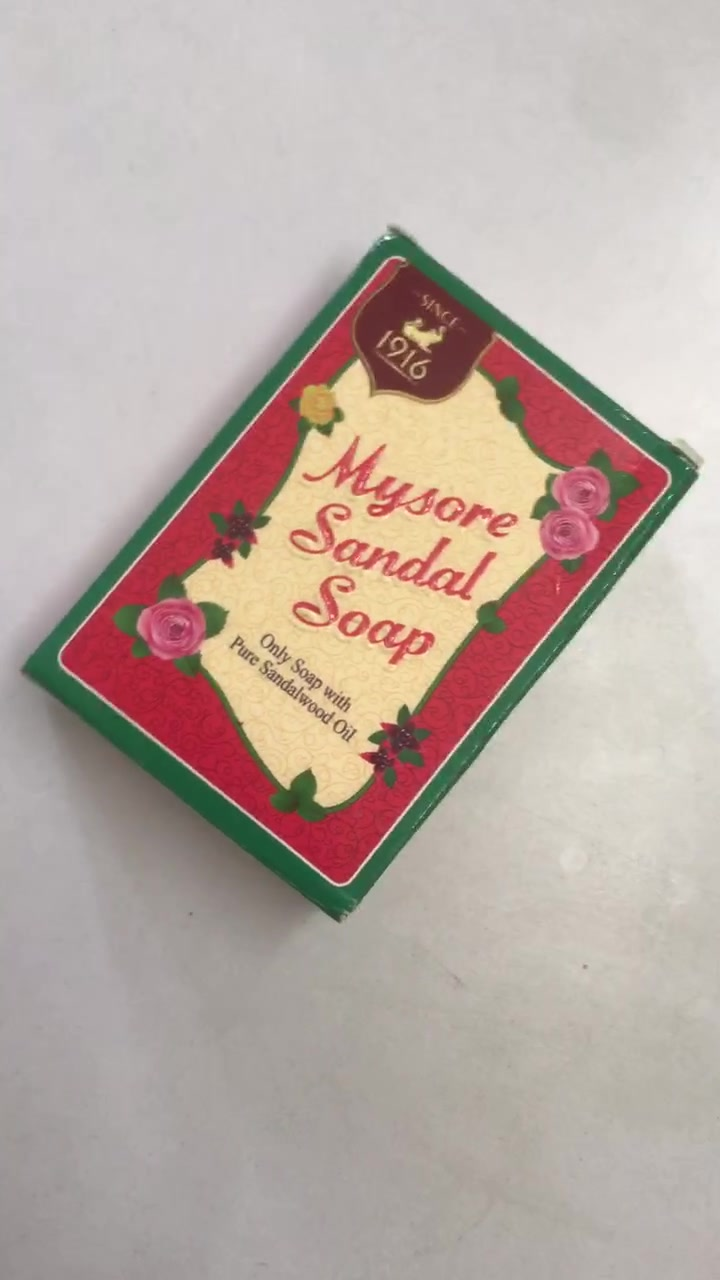mysore sandal soap: (26, 225, 695, 924)
